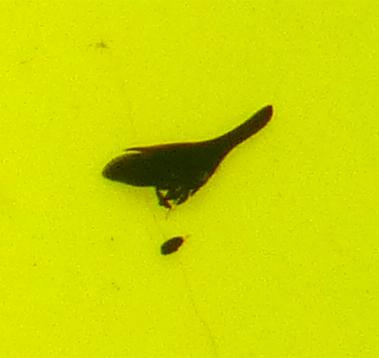Coleoptera: (154, 230, 187, 258)
Hemiptera: (100, 100, 279, 215)
